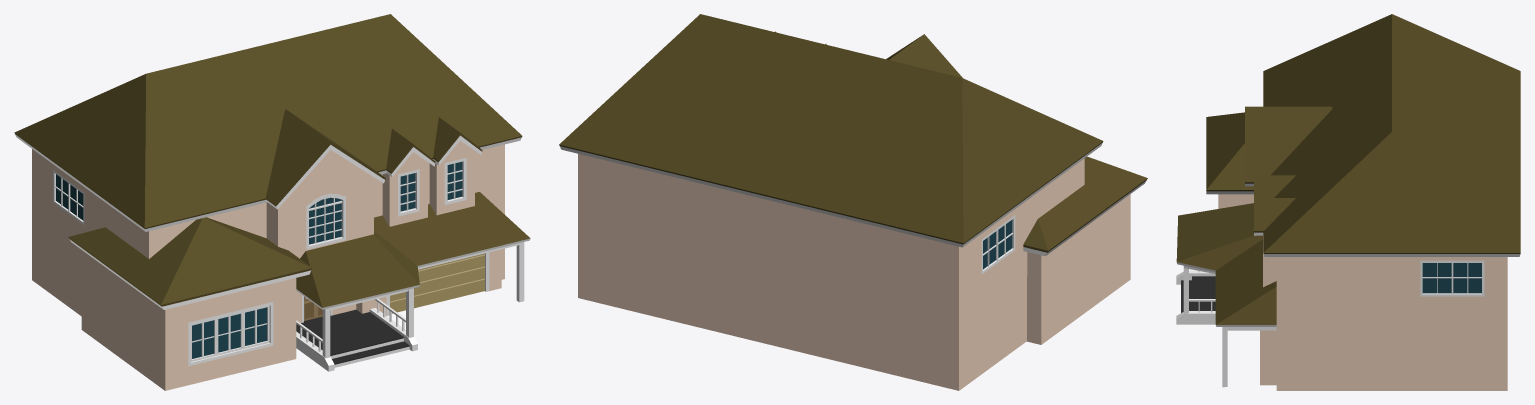
The model's file is House-27.fbx.
The picture shows the model from 3 angles, left to right: view 1: azimuth 30°, elevation 25°; view 2: azimuth 150°, elevation 25°; view 3: azimuth 270°, elevation 25°; orthographic projection. The views are drawn at different scales.
Visible parts, largest first — view 1: House-20-a; view 2: House-20-a; view 3: House-20-a.
Boxes of the visible parts, x1,y1,x2,y2 form: House-20-a: (14, 14, 530, 390); House-20-a: (559, 14, 1147, 390); House-20-a: (1176, 14, 1520, 390).
Size of what is drawn, in the model's own units: 19.53 by 11.28 by 15.14.
